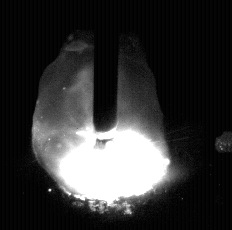arame: (94, 0, 118, 132)
poca: (30, 0, 169, 230)
